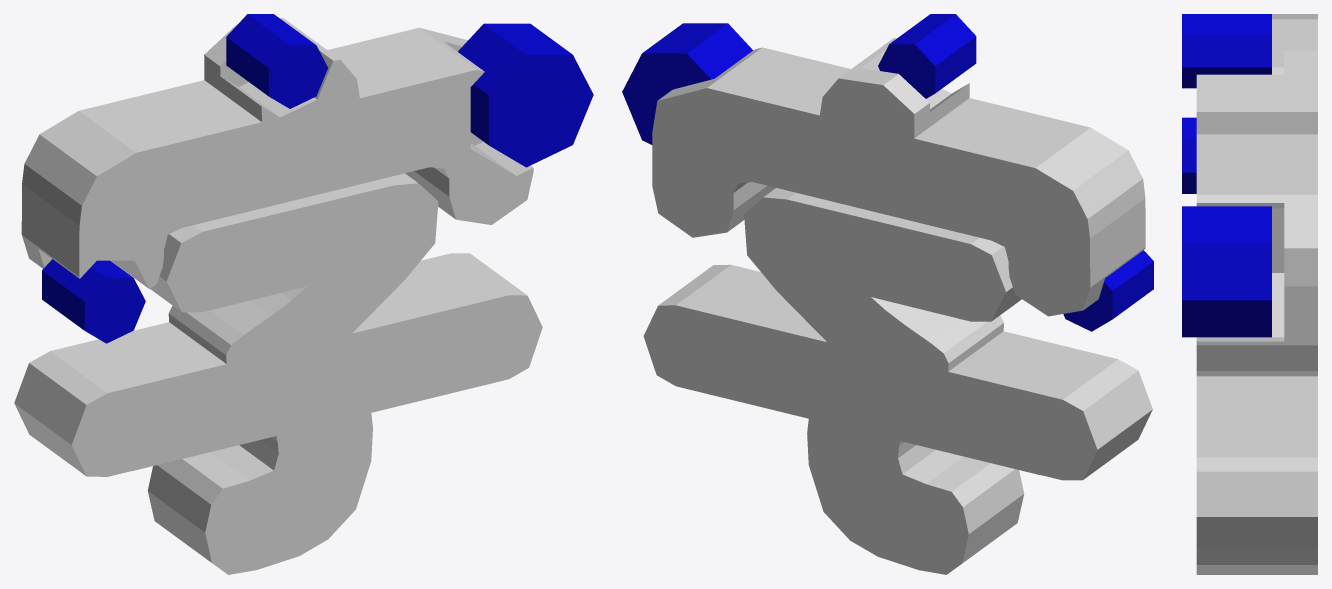
Rendered from Ch_Lite_China_字_01.fbx.
The picture shows the model from 3 angles, left to right: view 1: azimuth 30°, elevation 25°; view 2: azimuth 150°, elevation 25°; view 3: azimuth 270°, elevation 25°; orthographic projection. The views are drawn at different scales.
Visible parts, largest first — view 1: sphere1; view 2: sphere1; view 3: sphere1.
Part boxes in pixels (<box>): sphere1: <box>14,14,593,574</box>; sphere1: <box>622,14,1153,574</box>; sphere1: <box>1182,14,1317,574</box>.
Bounding box in the file's own units: 1.03 × 1 × 0.2242.
